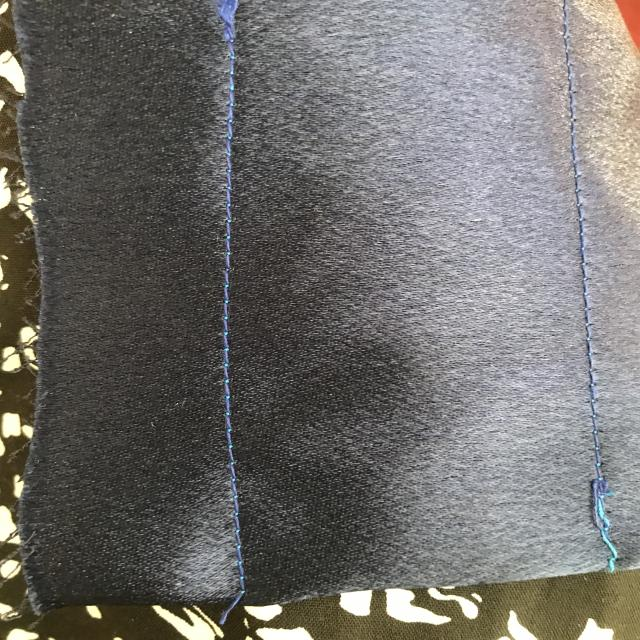good: (216, 134, 244, 273), (218, 448, 252, 548), (577, 357, 612, 452), (570, 214, 598, 331), (216, 298, 244, 414)
